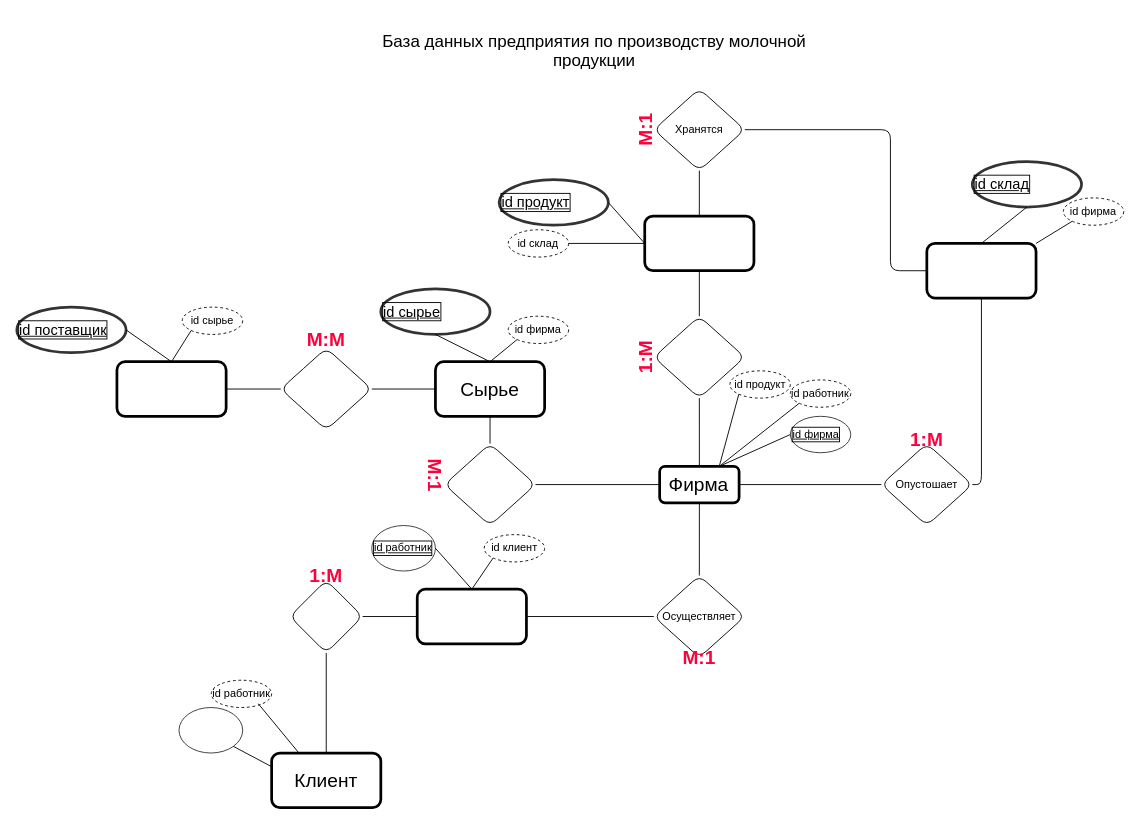
Some shapes in this 1140 by 824 pixel diagram are drawn without their labels. Here are the shapes that lost their labels. From the top down, the centre of each, then its label:
At (699,243): "Продукты".
At (981,270): "Склад".
At (699,356): "Производит".
At (171,388): "Поставщик".
At (326,388): "Поставляет".
At (490,484): "Используется".
At (326,616): "Совершает".
At (471,616): "Продажи".
At (210,730): "id клиента".
